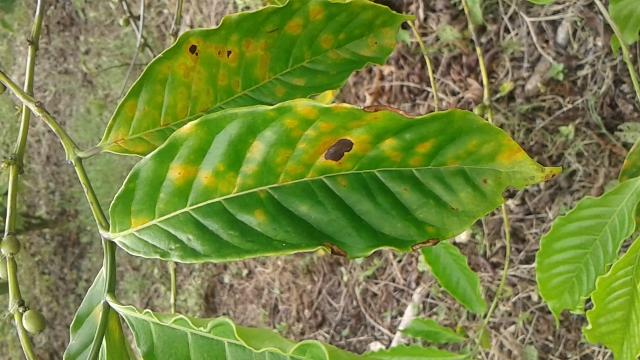rust_level_4: (108, 100, 559, 261)
